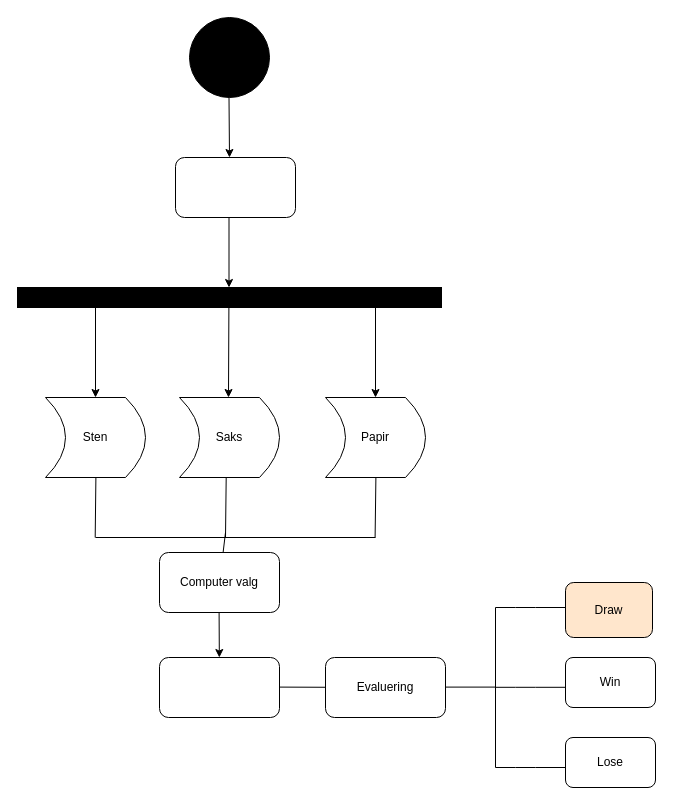
This 673x805 diagram has some shape labels left out. Here are the shapes that lost their labels. From the top down, the centre of each, then its label:
At (235,187): "Siden vises: Vælge mellem sten, saks eller papir".
At (219,687): "Animation".
